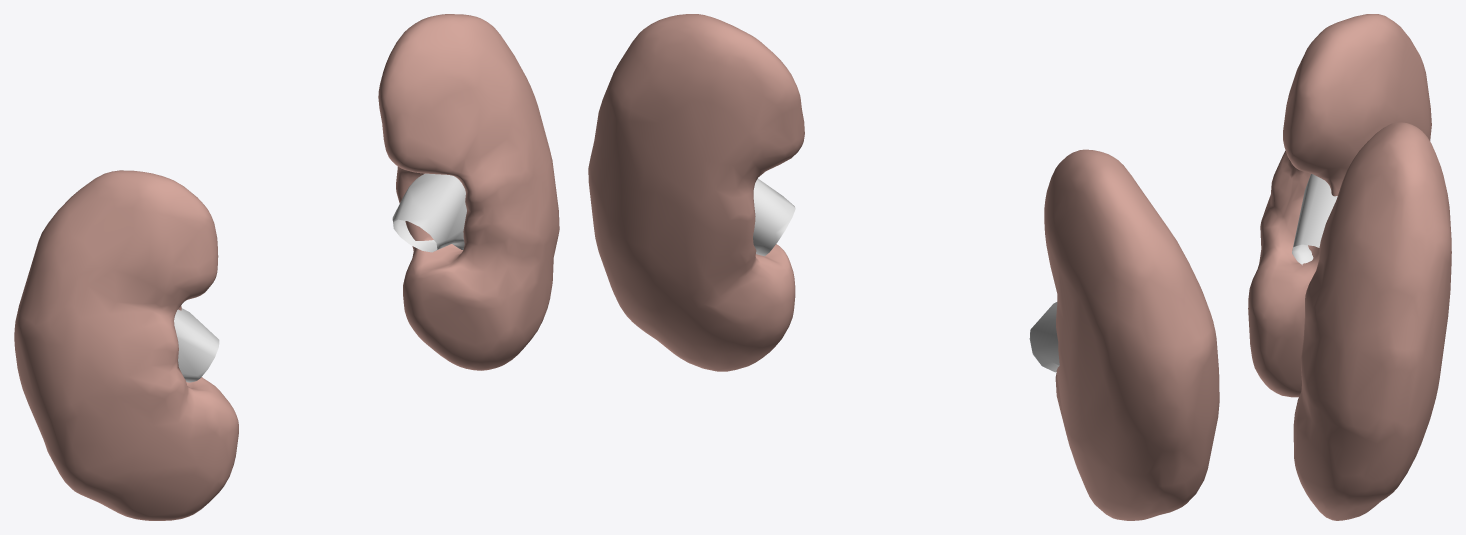
The model's file is visceral.glb.
3 views of the same model, side by side, from view 1: azimuth 30°, elevation 25°; view 2: azimuth 150°, elevation 25°; view 3: azimuth 270°, elevation 25° (orthographic). The views are drawn at different scales.
Visible parts, largest first — view 1: Kidney.r, Kidney.l, Renal pelvis.l, Renal pelvis.r; view 2: Kidney.l, Kidney.r, Renal pelvis.l, Renal pelvis.r; view 3: Kidney.l, Kidney.r, Renal pelvis.r.
Boxes of the visible parts, x1,y1,x2,y2 form: Kidney.r: (14,170,238,520); Kidney.l: (378,14,559,370); Renal pelvis.l: (392,173,466,252); Renal pelvis.r: (174,308,219,382); Kidney.l: (588,14,804,371); Kidney.r: (1044,149,1219,520); Renal pelvis.l: (753,178,795,256); Renal pelvis.r: (1029,302,1059,372); Kidney.l: (1293,122,1451,520); Kidney.r: (1248,14,1431,397); Renal pelvis.r: (1292,174,1337,265).
Bounding box in the file's own units: 0.178 × 0.1236 × 0.0523.
